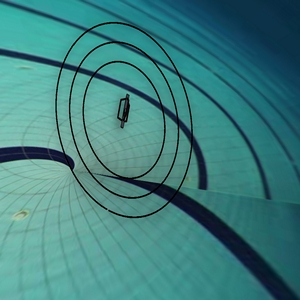circle: (41, 16, 208, 232)
submarine: (95, 83, 142, 134)
